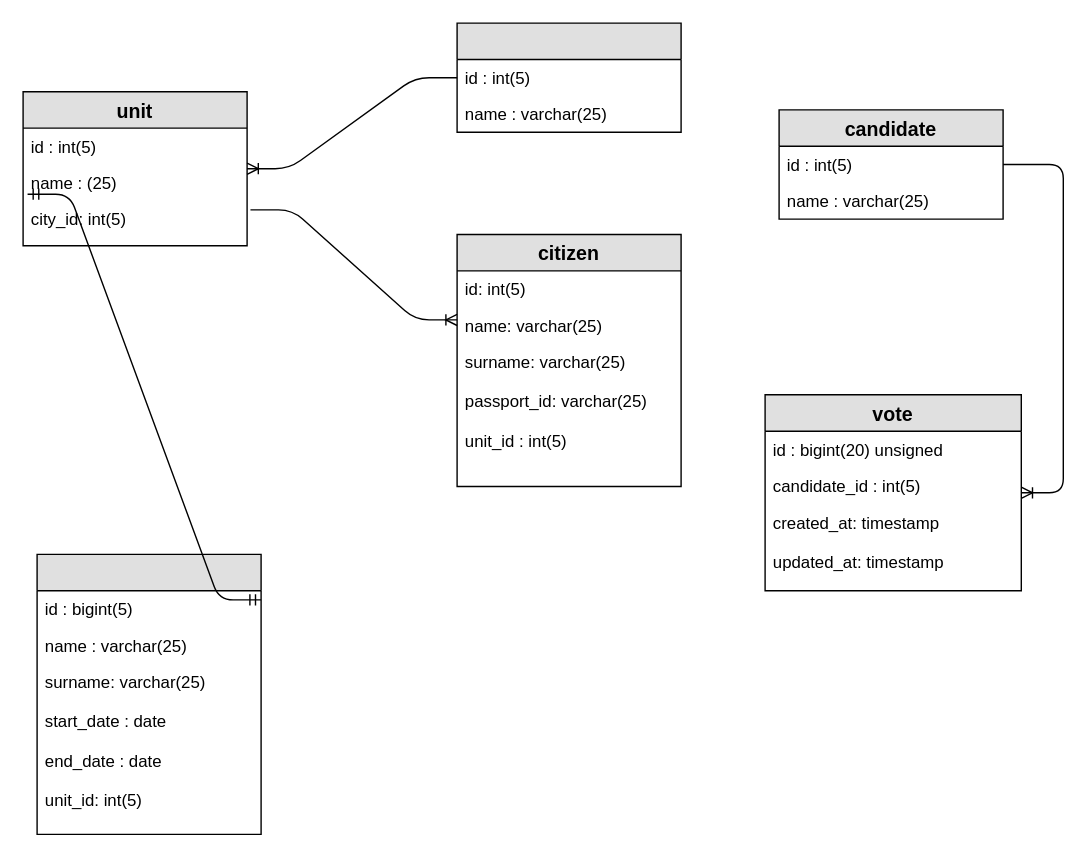
This 1086x857 diagram has some shape labels left out. The box of each missing label's shape, as (x1, y1, x2, y2) in pixels:
city: (456, 22, 681, 132)
supervisor: (36, 553, 261, 834)
